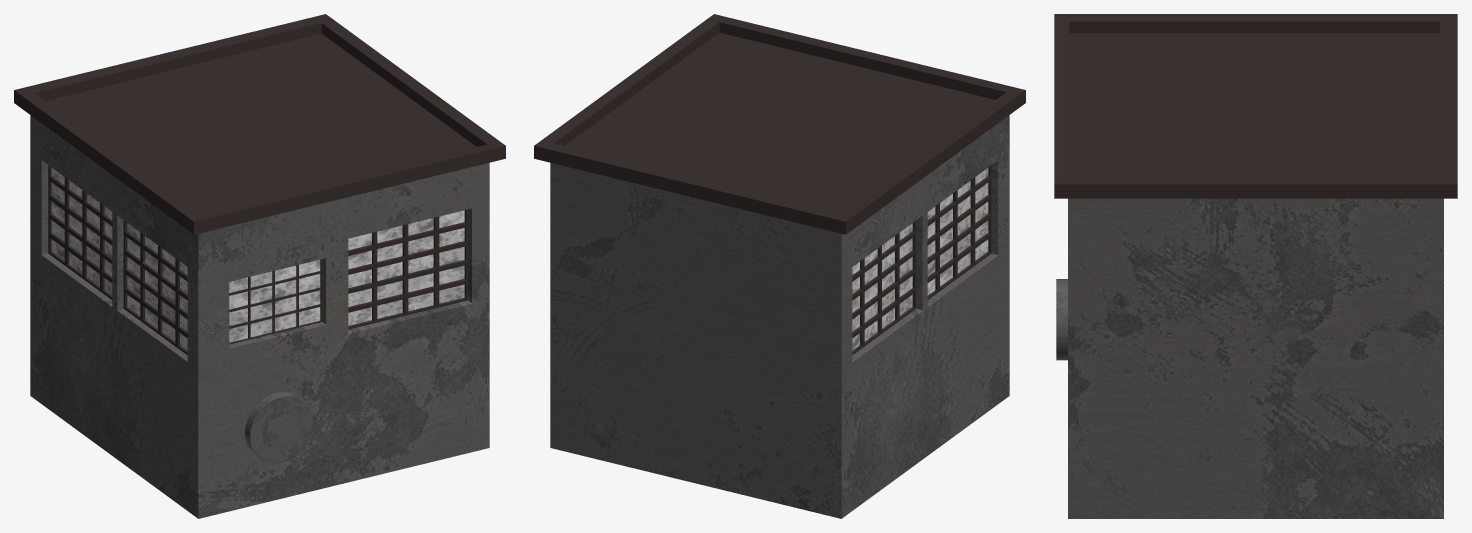
Rendered from oldfactory.fbx.
The picture shows the model from 3 angles, left to right: view 1: azimuth 30°, elevation 25°; view 2: azimuth 150°, elevation 25°; view 3: azimuth 270°, elevation 25°; orthographic projection. The views are drawn at different scales.
Visible parts, largest first — view 1: connectPipe.001; view 2: connectPipe.001; view 3: connectPipe.001.
Part boxes in pixels (box(x1,y1,x2,y2)): connectPipe.001: box(14, 14, 505, 518); connectPipe.001: box(534, 14, 1025, 518); connectPipe.001: box(1054, 14, 1457, 518).
Bounding box in the file's own units: 13.93 × 12.97 × 13.93.
3 materials, 2 textured.
